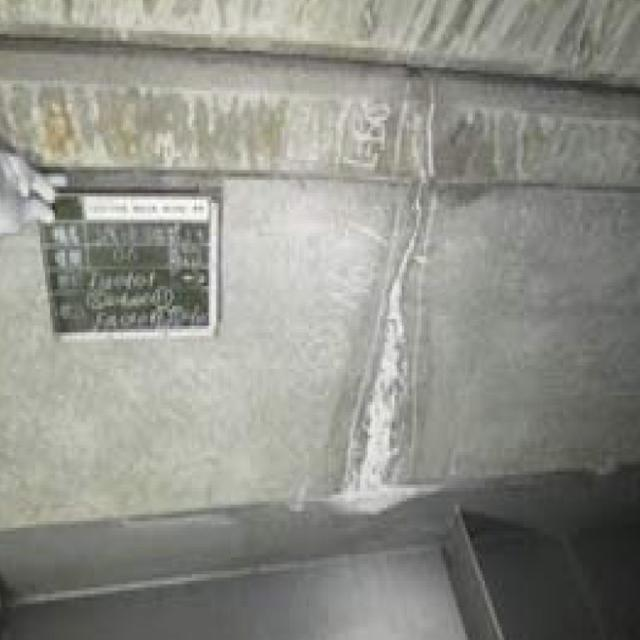freelime: (336, 217, 428, 540)
